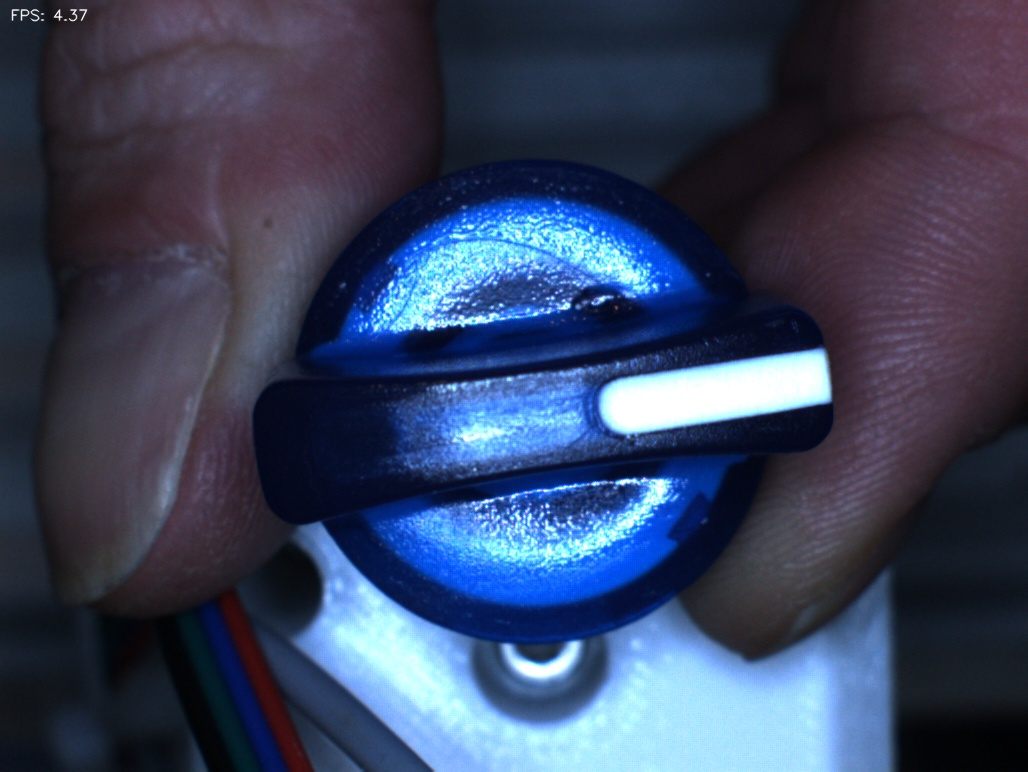Choc: (558, 258, 637, 337)
